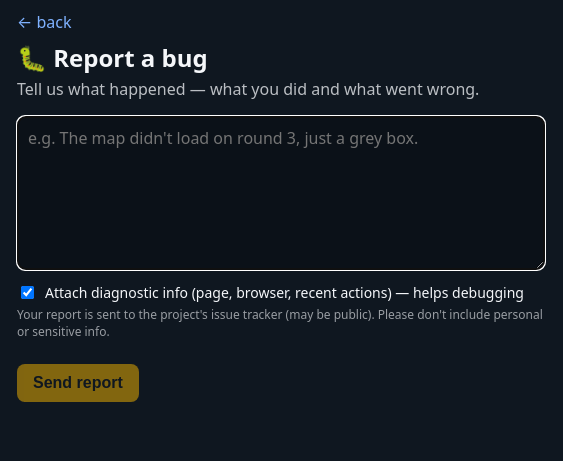
Test: BugReport — Turnstile reset wiring › resets the Turnstile token after a failed send so a retry can succeed
The image size is (563, 461).
Type "the map went grey" into the text box.
click(281, 193); type("the map went grey")  # box [17, 116, 545, 270]
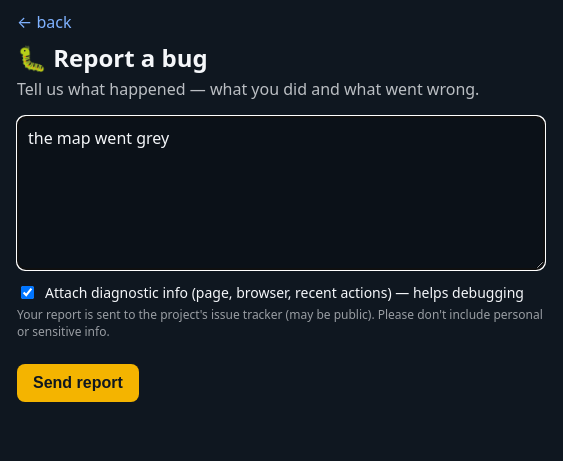
Click the button "Send report".
click(78, 383)  # box [17, 364, 139, 402]
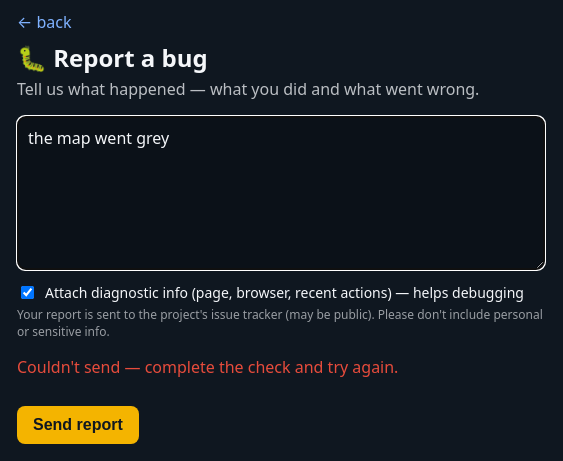
expect the text "Couldn't send — complete the check and try again." is shown: met, box [17, 356, 398, 378]
